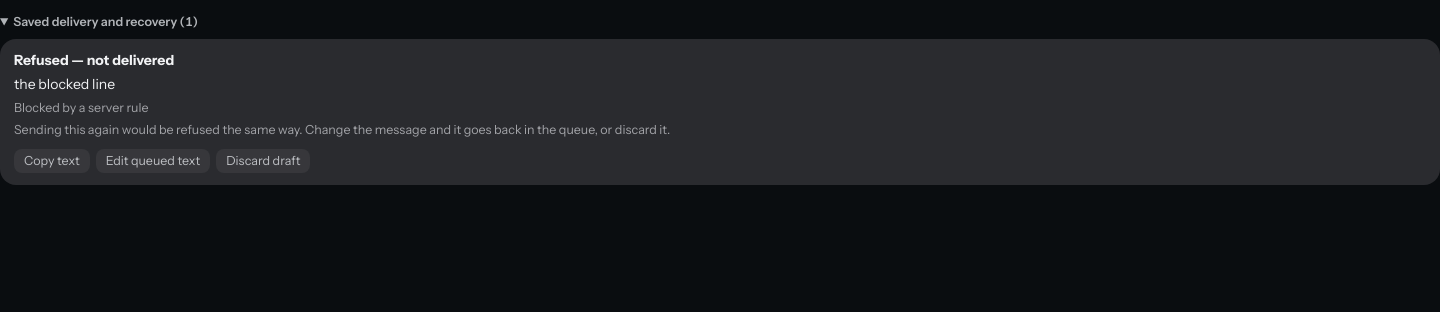
MessagingQueuePanel › treats a policy refusal as terminal: the reason, Edit and Discard, never Retry
The width and height of the screenshot is (1440, 312).
Expected: the text "Refused — not delivered" is shown, [14,51,174,69]
Expected: the text "Blocked by a server rule" is shown, [14,100,148,115]
Click the button "Edit queued text": (153, 161) [96,149,210,173]
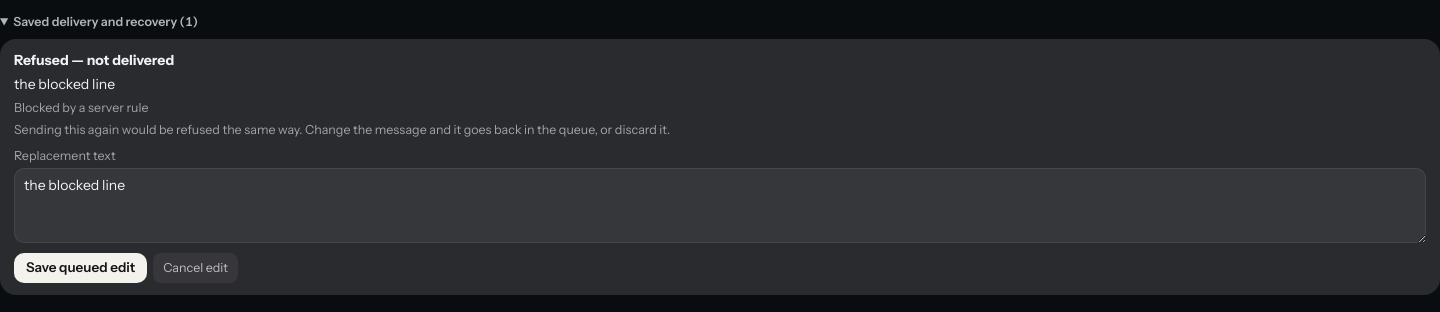
Expected: the text box labelled "Replacement text" holds "the blocked line", [14,168,1426,243]
